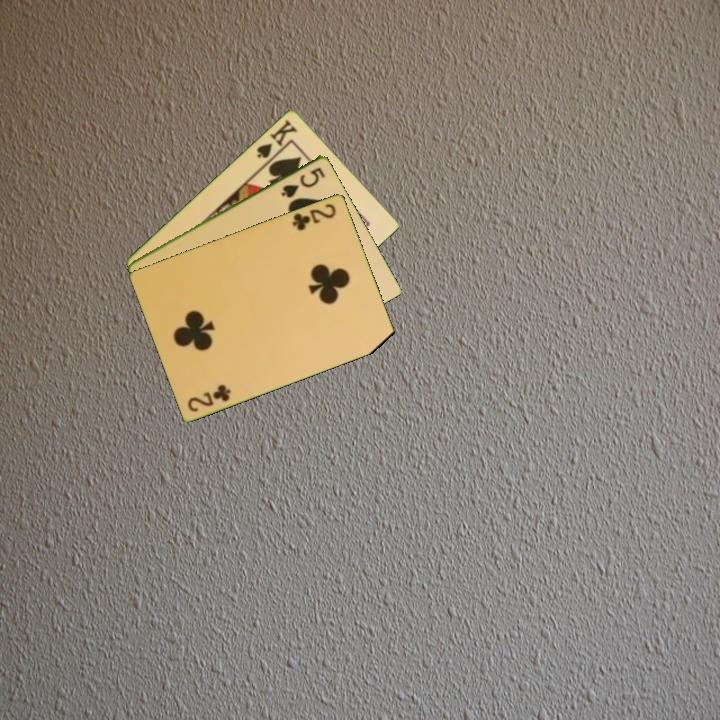2c: (289, 199, 339, 233), (184, 381, 234, 414)
5s: (277, 163, 328, 201)
Ks: (253, 116, 300, 161)
